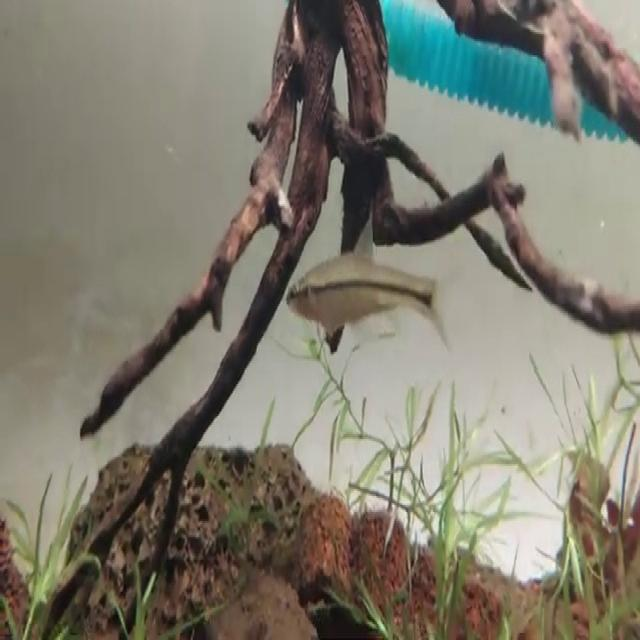Cakil Baligi: (281, 206, 454, 352)
